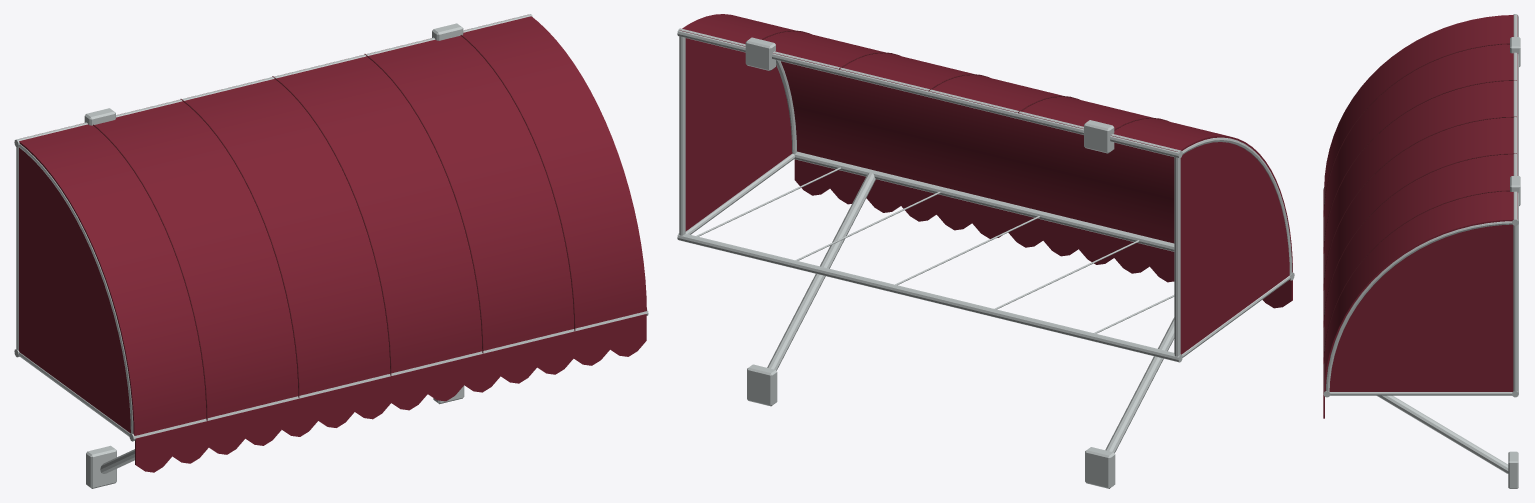
Rendered from A-NEW-20261026-SHOP-AWNING-UNIT-001_LOD2_R3.glb.
3 renders of one model, left to right at view 1: azimuth 30°, elevation 25°; view 2: azimuth 150°, elevation 25°; view 3: azimuth 270°, elevation 25°, orthographic. The views are drawn at different scales.
Visible parts, largest first — view 1: thick curved fabric canopy, rounded end fabric, scalloped front valance, front perimeter rail, rear upper rail, curved end frame, generic wall bracket; view 2: thick curved fabric canopy, rounded end fabric, rounded end fabric.001, scalloped front valance, rear lower rail, rear upper rail, front perimeter rail, short inferred mounting brace.001, short inferred mounting brace, rear upright, rear upright.001, generic wall bracket.001 (+5 smaller); view 3: thick curved fabric canopy, rounded end fabric.001, short inferred mounting brace.001, curved end frame.001, rear upper rail, rear upright.001, end lower frame.001, generic wall bracket.001, fabric seam.003, fabric seam, fabric seam.004, fabric seam.002 (+3 smaller).
Boxes of the visible parts, <box> form: thick curved fabric canopy: <box>20,16,645,435</box>; rounded end fabric: <box>19,141,135,435</box>; scalloped front valance: <box>135,314,646,472</box>; front perimeter rail: <box>129,309,648,441</box>; rear upper rail: <box>14,14,532,147</box>; curved end frame: <box>18,143,133,433</box>; generic wall bracket: <box>86,445,116,488</box>; thick curved fabric canopy: <box>681,14,1228,243</box>; rounded end fabric: <box>1180,135,1292,354</box>; rounded end fabric.001: <box>679,14,792,231</box>; scalloped front valance: <box>794,159,1292,308</box>; rear lower rail: <box>677,233,1182,362</box>; rear upper rail: <box>677,28,1182,158</box>; front perimeter rail: <box>794,151,1294,280</box>; short inferred mounting brace.001: <box>767,172,875,370</box>; short inferred mounting brace: <box>1105,317,1174,453</box>; rear upright: <box>1174,157,1180,356</box>; rear upright.001: <box>679,36,685,235</box>; generic wall bracket.001: <box>747,364,777,406</box>; thick curved fabric canopy: <box>1324,15,1517,385</box>; rounded end fabric.001: <box>1324,219,1513,391</box>; short inferred mounting brace.001: <box>1377,395,1508,473</box>; curved end frame.001: <box>1326,221,1512,391</box>; rear upper rail: <box>1512,14,1518,225</box>; rear upright.001: <box>1513,225,1517,391</box>; end lower frame.001: <box>1330,392,1512,395</box>; generic wall bracket.001: <box>1508,451,1518,488</box>; fabric seam.003: <box>1323,153,1517,327</box>; fabric seam: <box>1323,43,1509,216</box>; fabric seam.004: <box>1323,190,1509,363</box>; fabric seam.002: <box>1323,116,1516,290</box>.
Bounding box in the file's own units: 2.52 × 1.74 × 1.02.
